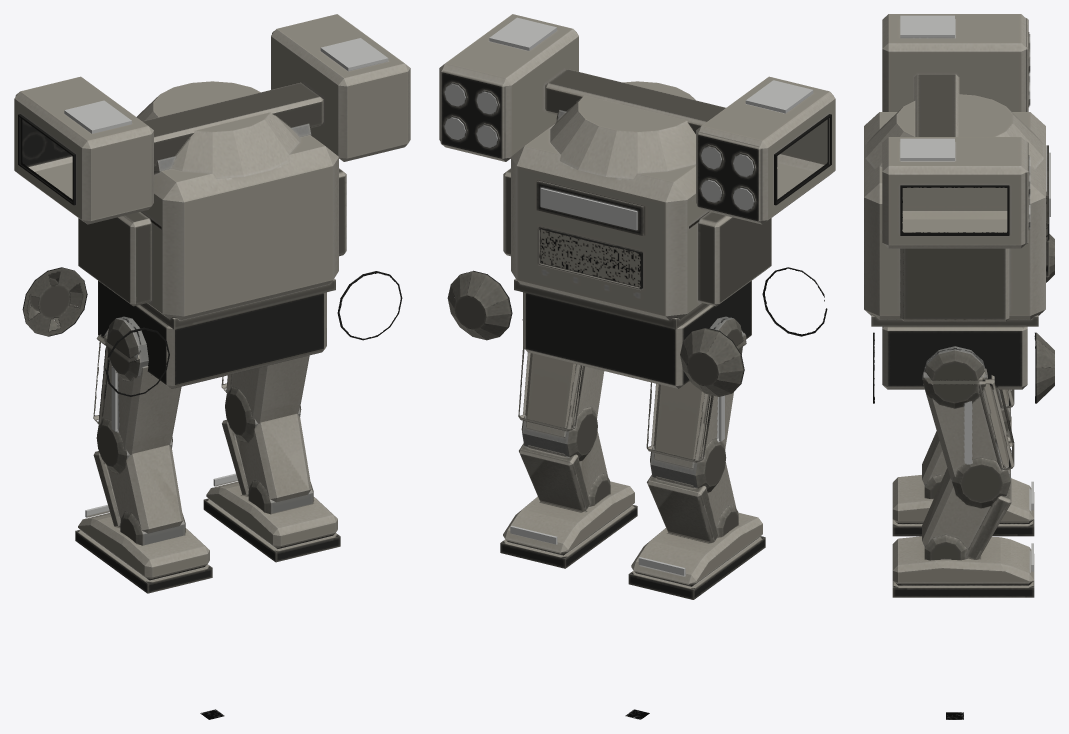
File: ord_skyguard.fbx
The picture shows the model from 3 angles, left to right: view 1: azimuth 30°, elevation 25°; view 2: azimuth 150°, elevation 25°; view 3: azimuth 270°, elevation 25°; orthographic projection.
Parts seen in each view (by area): view 1: torso_bar, launcher_bar, base_bar, thighL_bar, shinR_bar, shinL_bar, footR_bar, footL_bar, thighR_bar, launcher_glow_running_bar; view 2: torso_bar, launcher_bar, base_bar, thighL_bar, thighR_bar, footL_bar, footR_bar, shinR_bar, shinL_bar, launcher_glow_weapon_bar, launcher_glow_running_bar, torso_glow_head_bar; view 3: launcher_bar, torso_bar, thighR_bar, base_bar, footR_bar, shinR_bar, footL_bar, launcher_glow_running_bar, shinL_bar, thighR_glow_running_bar, thighL_bar.
Part boxes in pixels (left/top/right/bottom): torso_bar: left=78, top=81, right=346, bottom=329; launcher_bar: left=14, top=14, right=410, bottom=224; base_bar: left=22, top=267, right=402, bottom=396; thighL_bar: left=93, top=316, right=181, bottom=473; shinR_bar: left=222, top=414, right=313, bottom=514; shinL_bar: left=93, top=445, right=185, bottom=545; footR_bar: left=203, top=481, right=340, bottom=562; footL_bar: left=75, top=513, right=212, bottom=593; thighR_bar: left=221, top=355, right=309, bottom=442; launcher_glow_running_bar: left=64, top=38, right=388, bottom=133; torso_bar: left=503, top=81, right=771, bottom=329; launcher_bar: left=439, top=14, right=835, bottom=224; base_bar: left=447, top=267, right=827, bottom=396; thighL_bar: left=646, top=316, right=742, bottom=492; thighR_bar: left=518, top=346, right=604, bottom=461; footL_bar: left=628, top=512, right=765, bottom=599; footR_bar: left=500, top=481, right=637, bottom=568; shinR_bar: left=519, top=431, right=610, bottom=511; shinL_bar: left=647, top=462, right=738, bottom=543; launcher_glow_weapon_bar: left=444, top=84, right=753, bottom=210; launcher_glow_running_bar: left=489, top=17, right=813, bottom=113; torso_glow_head_bar: left=540, top=188, right=637, bottom=230; launcher_bar: left=882, top=14, right=1029, bottom=248; torso_bar: left=864, top=94, right=1049, bottom=326; thighR_bar: left=922, top=346, right=1014, bottom=508; base_bar: left=873, top=234, right=1054, bottom=403; footR_bar: left=892, top=536, right=1034, bottom=597; shinR_bar: left=922, top=468, right=1011, bottom=560; footL_bar: left=892, top=475, right=1034, bottom=536; launcher_glow_running_bar: left=900, top=15, right=954, bottom=160; shinL_bar: left=922, top=416, right=1011, bottom=498; thighR_glow_running_bar: left=964, top=401, right=971, bottom=463; thighL_bar: left=996, top=389, right=1014, bottom=433.
Size of the model in its own units: 416 by 764 by 210.
Materials: 2 (2 with a texture image).
